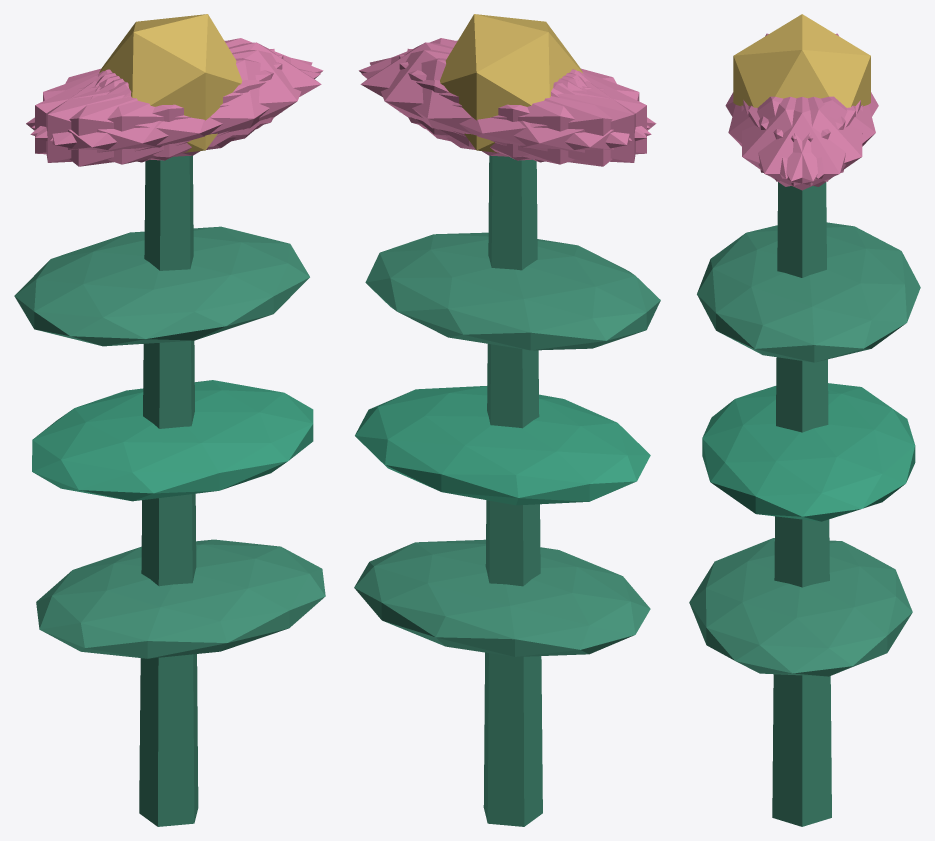
File: crinum-asiaticum.glb
3 renders of one model, left to right at view 1: azimuth 30°, elevation 25°; view 2: azimuth 150°, elevation 25°; view 3: azimuth 270°, elevation 25°, orthographic.
Parts seen in each view (by area): view 1: stem, leaf2, leaf0, leaf1, center, petal1, petal6, petal2, petal5, petal7, petal0, petal4 (+2 smaller); view 2: leaf2, leaf1, leaf0, stem, center, petal8, petal3, petal7, petal4, petal2, petal0, petal5 (+2 smaller); view 3: leaf2, leaf0, leaf1, stem, center, petal0, petal4, petal5, petal8, petal1.
Part boxes in pixels (x1,y1,x2,y2): stem: (139, 155, 198, 826); leaf2: (14, 226, 309, 346); leaf0: (36, 539, 325, 658); leaf1: (32, 380, 313, 501); center: (99, 14, 242, 152); petal1: (30, 58, 320, 164); petal6: (26, 71, 235, 166); petal2: (46, 49, 274, 162); petal5: (50, 50, 312, 157); petal7: (35, 55, 283, 160); petal0: (99, 42, 321, 146); petal4: (32, 38, 323, 138); leaf2: (365, 232, 660, 350); leaf1: (355, 386, 650, 505); leaf0: (354, 539, 650, 656); stem: (483, 155, 542, 826); center: (440, 14, 582, 152); petal8: (361, 58, 651, 164); petal3: (446, 71, 656, 166); petal7: (407, 48, 635, 162); petal4: (370, 49, 631, 157); petal2: (399, 55, 646, 160); petal0: (360, 42, 583, 146); petal5: (359, 38, 650, 138); leaf2: (697, 222, 920, 362); leaf0: (689, 538, 912, 676); leaf1: (702, 383, 915, 521); stem: (772, 182, 831, 826); center: (733, 14, 870, 107); petal0: (743, 97, 860, 190); petal4: (748, 97, 862, 186); petal5: (741, 96, 855, 186); petal8: (758, 96, 875, 178); petal1: (728, 96, 845, 178).
Bounding box in the file's own units: 0.1452 × 0.3846 × 0.1033.
